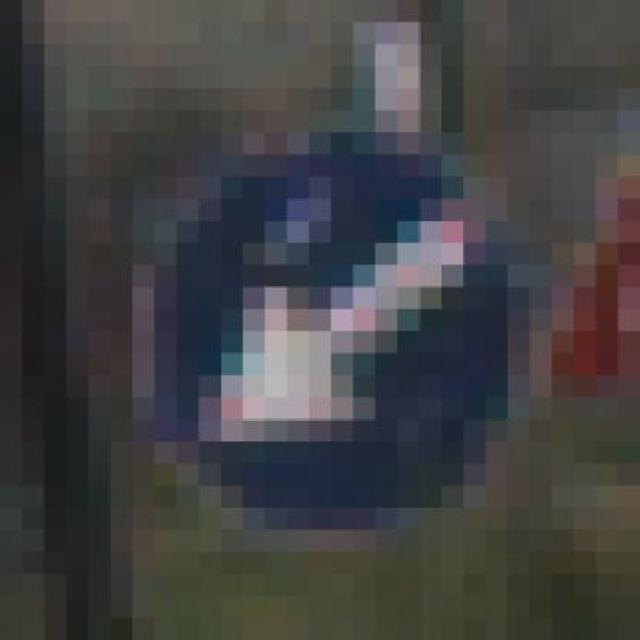Keep-Left: (132, 66, 574, 552)
